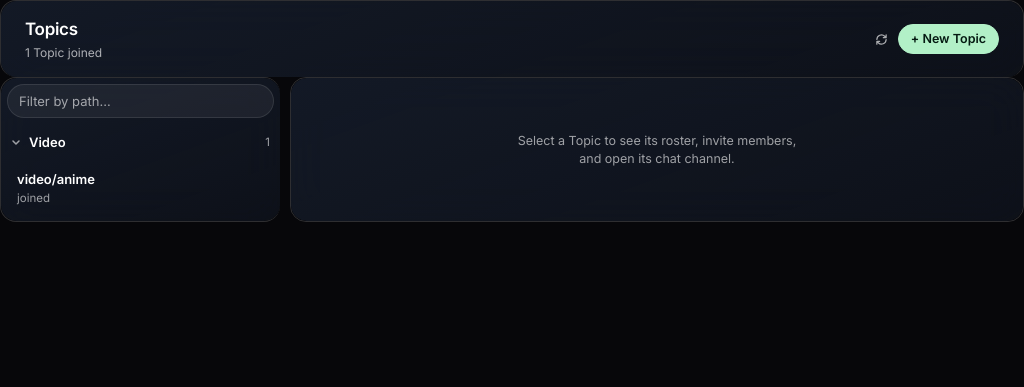
Test: Hoardbook Topics draft r1 — roster rows (PersonRow) › omits the fingerprint for a contact whose fingerprint is not yet resolved
The width and height of the screenshot is (1024, 387).
Click the button with class "topic-row": point(56, 179) [7,161,274,215]
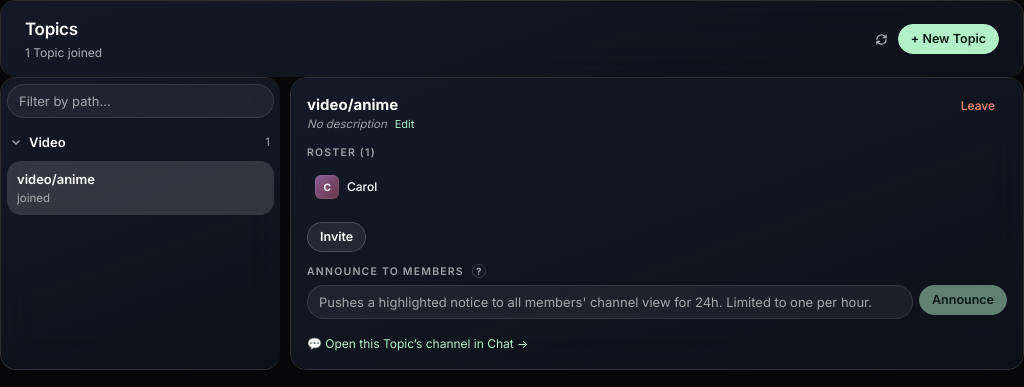
Check: the text "Carol" is shown, box [347,178,377,196]
